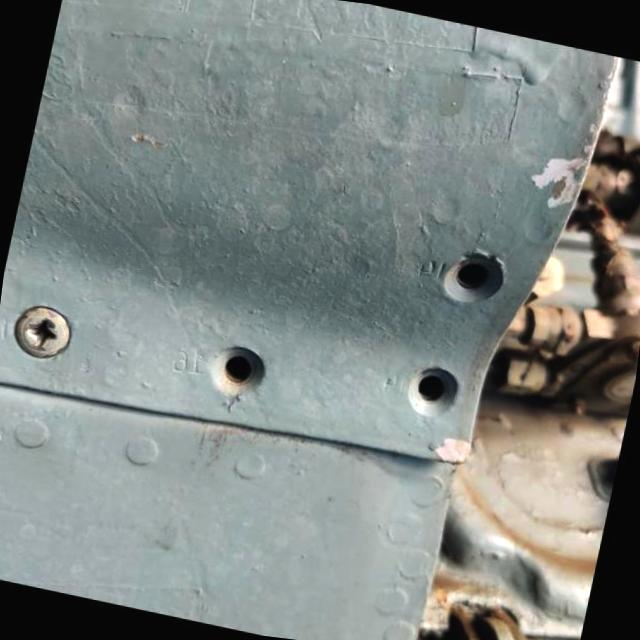Missing Fastener: (433, 244, 507, 312), (201, 332, 270, 402), (392, 360, 463, 426)
